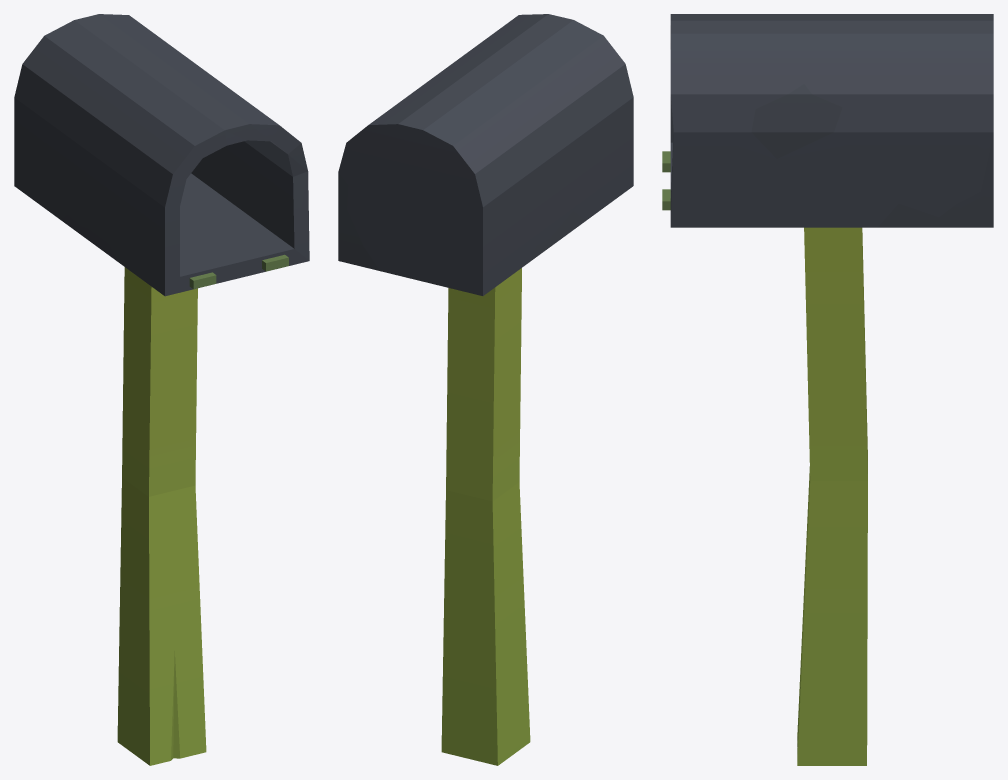
The model's file is Mailbox_07.fbx.
3 views of the same model, side by side, from view 1: azimuth 30°, elevation 25°; view 2: azimuth 150°, elevation 25°; view 3: azimuth 270°, elevation 25° (orthographic). The views are drawn at different scales.
Parts seen in each view (by area): view 1: Mailbox_07; view 2: Mailbox_07; view 3: Mailbox_07.
Boxes of the visible parts, box(x1,y1,x2,y2) form: Mailbox_07: box(14, 14, 309, 765); Mailbox_07: box(338, 14, 633, 765); Mailbox_07: box(662, 14, 993, 765).
Bounding box in the file's own units: 0.2398 × 1.07 × 0.4434.
